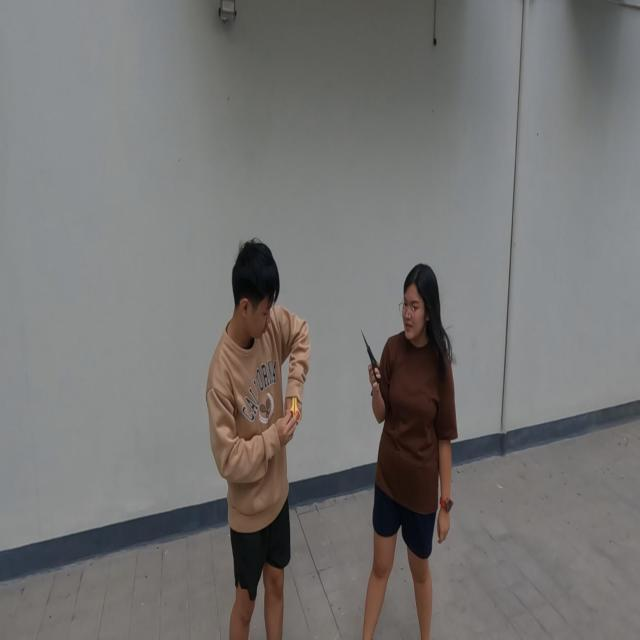scissor: (360, 328, 382, 383), (288, 393, 300, 422)
